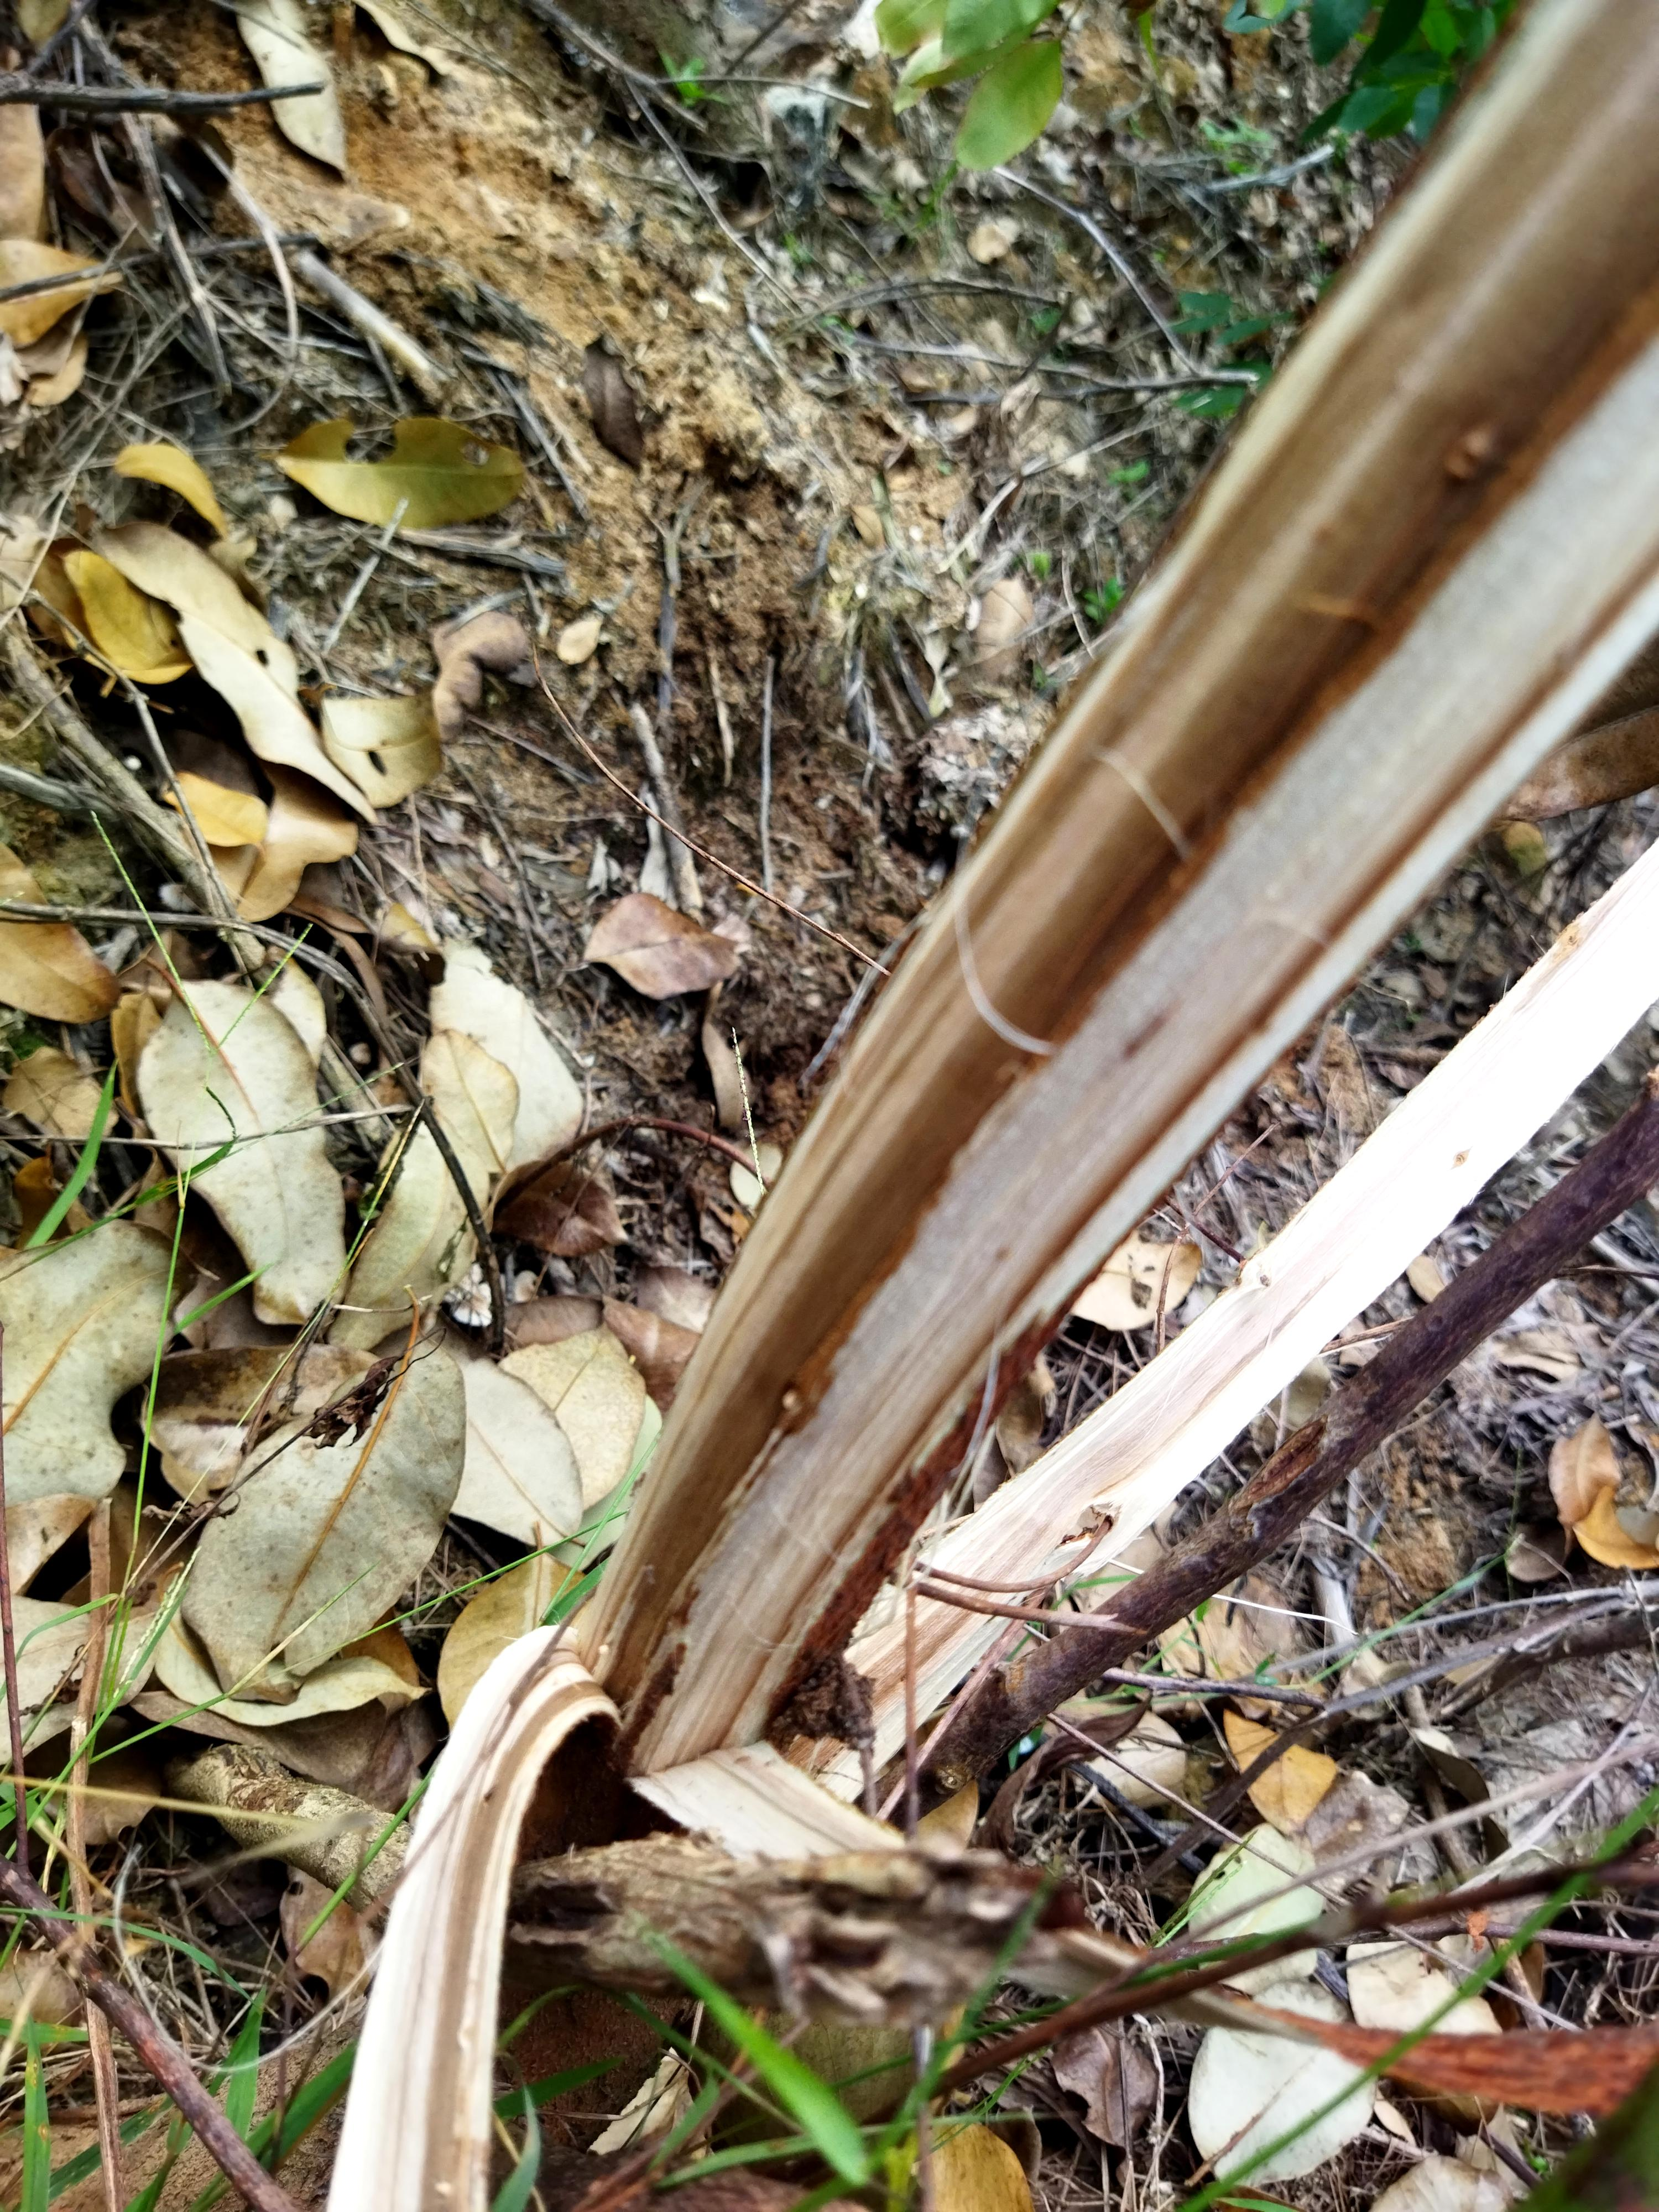Ralstonia: (537, 223, 1659, 1594)
